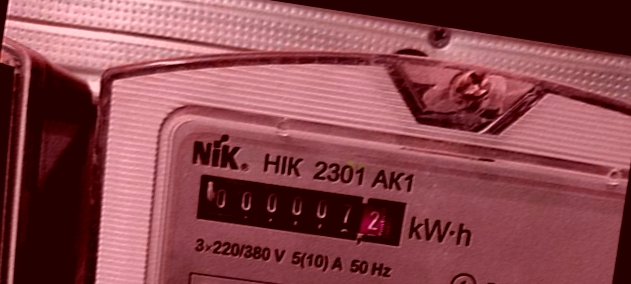0: (288, 194, 306, 219), (212, 185, 229, 211), (263, 191, 280, 216), (313, 197, 329, 222), (238, 189, 254, 213)
2: (365, 209, 381, 234)
7: (339, 201, 354, 226)
screen: (183, 161, 417, 260)
